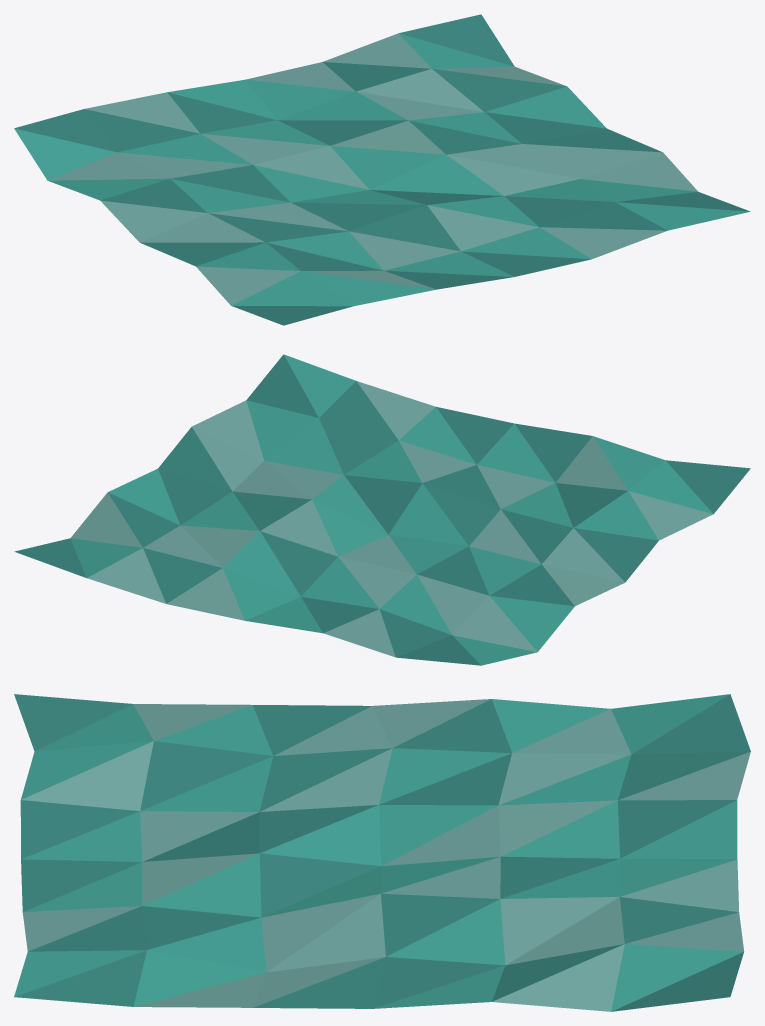
File: Water_small.fbx
3 renders of one model, top to bottom at view 1: azimuth 30°, elevation 25°; view 2: azimuth 150°, elevation 25°; view 3: azimuth 270°, elevation 25°, orthographic. The views are drawn at different scales.
Parts seen in each view (by area): view 1: Water_small; view 2: Water_small; view 3: Water_small.
Part boxes in pixels (left/top/right/bottom): Water_small: left=14, top=14, right=750, bottom=325; Water_small: left=14, top=354, right=750, bottom=665; Water_small: left=14, top=694, right=750, bottom=1011.
Size of the model in its own units: 1236 by 49.46 by 1234.
